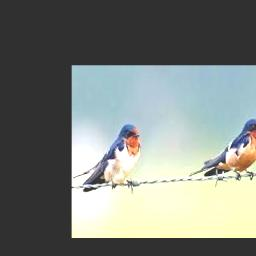Swallow: (73, 124, 142, 192), (189, 118, 256, 179)
